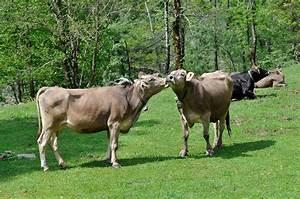cow: (35, 69, 168, 171), (165, 68, 233, 157)
